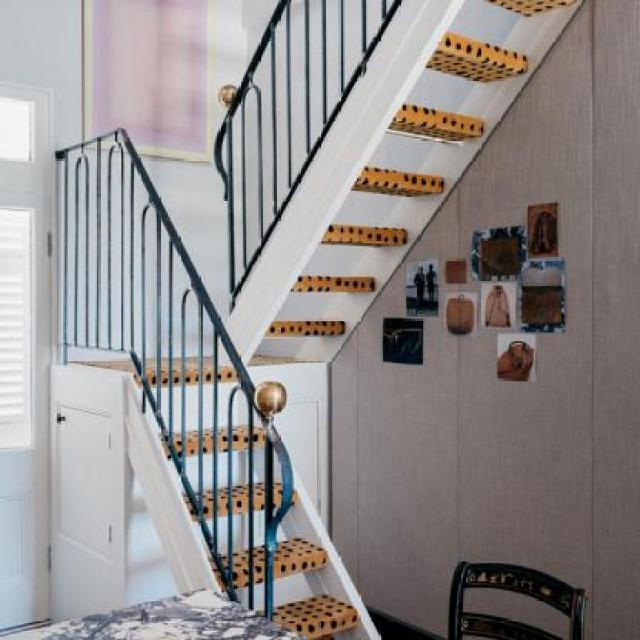stair: (40, 230, 437, 639)
